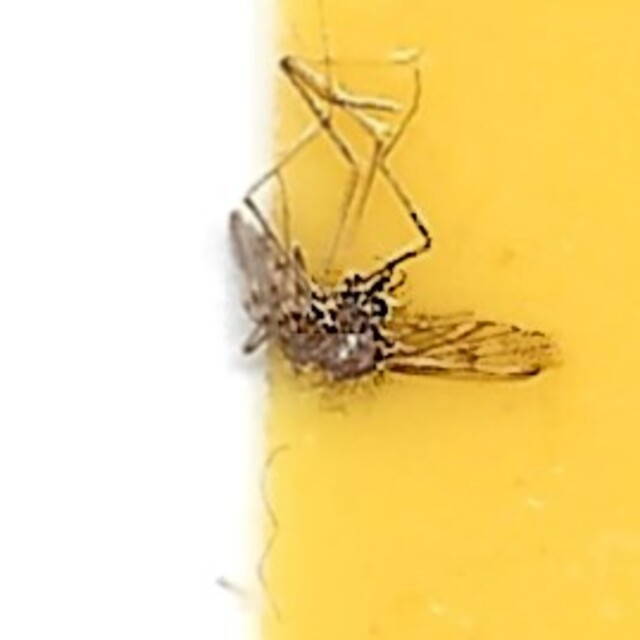Nematocera: (238, 245, 402, 395)
